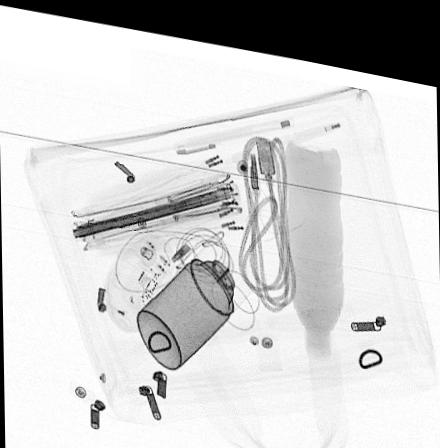Sprayer: (134, 221, 255, 361)
